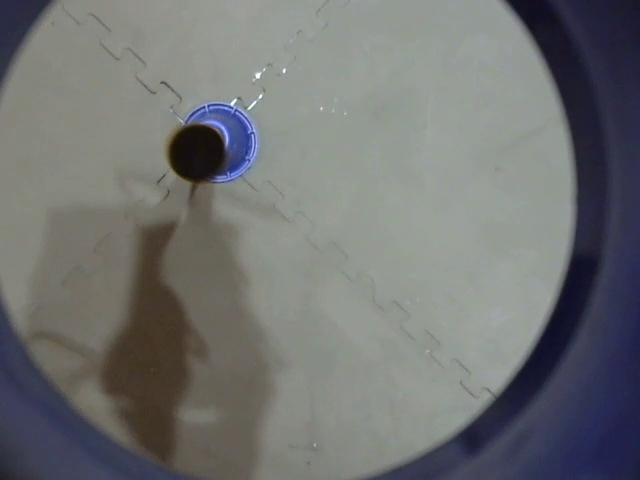tip: (158, 116, 237, 196)
